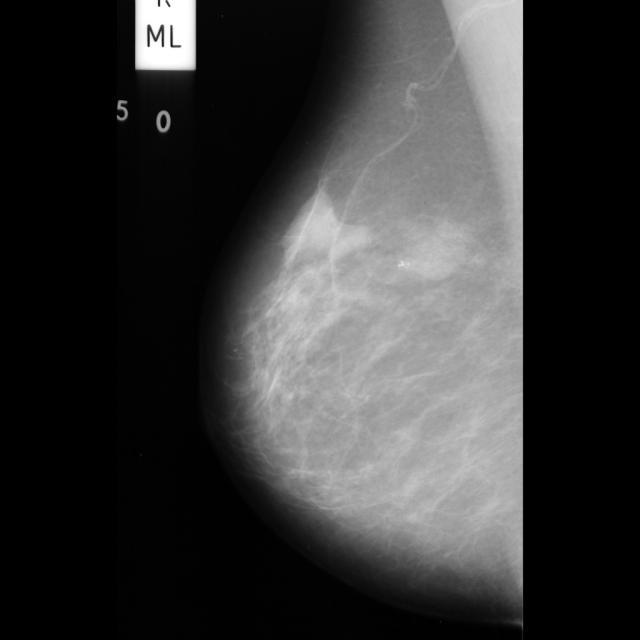CALC: (398, 258, 410, 271)
